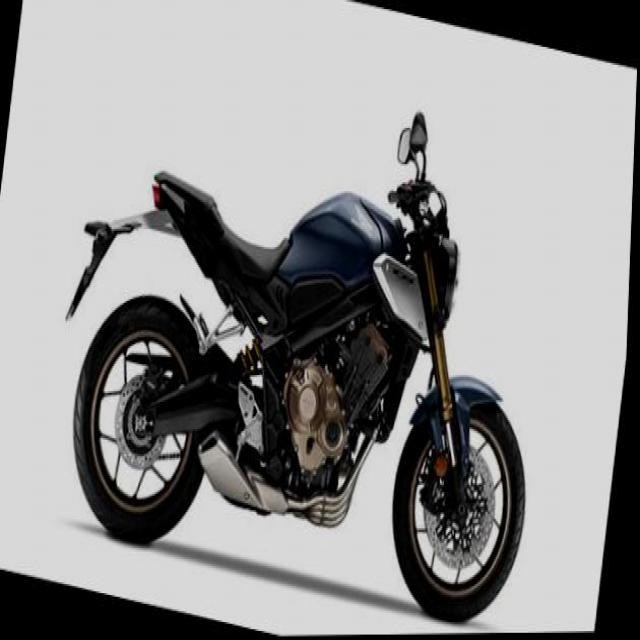CB650R: (40, 28, 574, 637)
